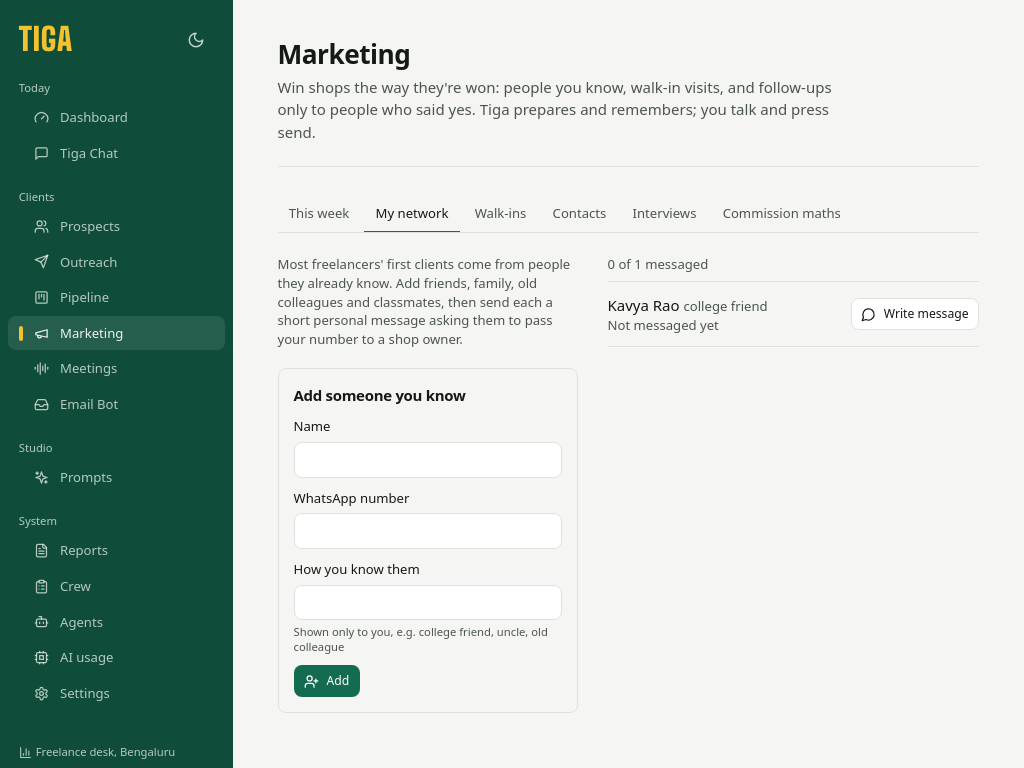
Scenario: Marketing › shows why WhatsApp is refused
Click the button named "write message to kavya rao": (915, 314) [851, 298, 979, 330]
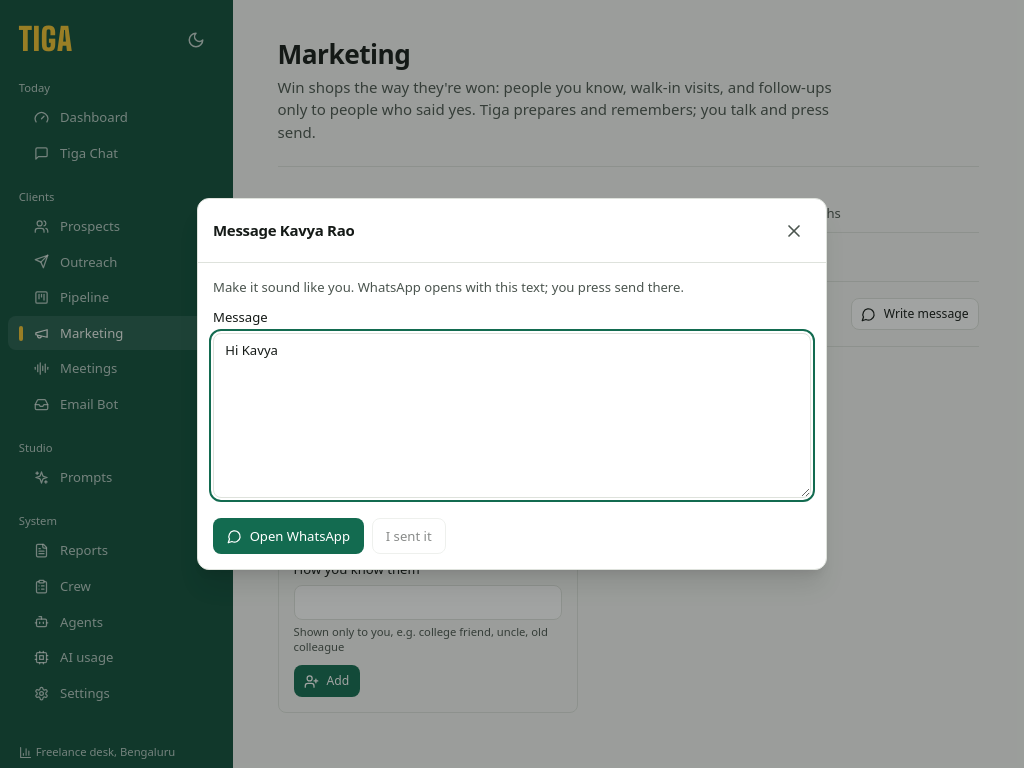
Check: the text box labelled "Message" holds "Hi Kavya", box [213, 333, 811, 498]
Click the button "Open WhatsApp": (289, 536) [213, 518, 364, 554]
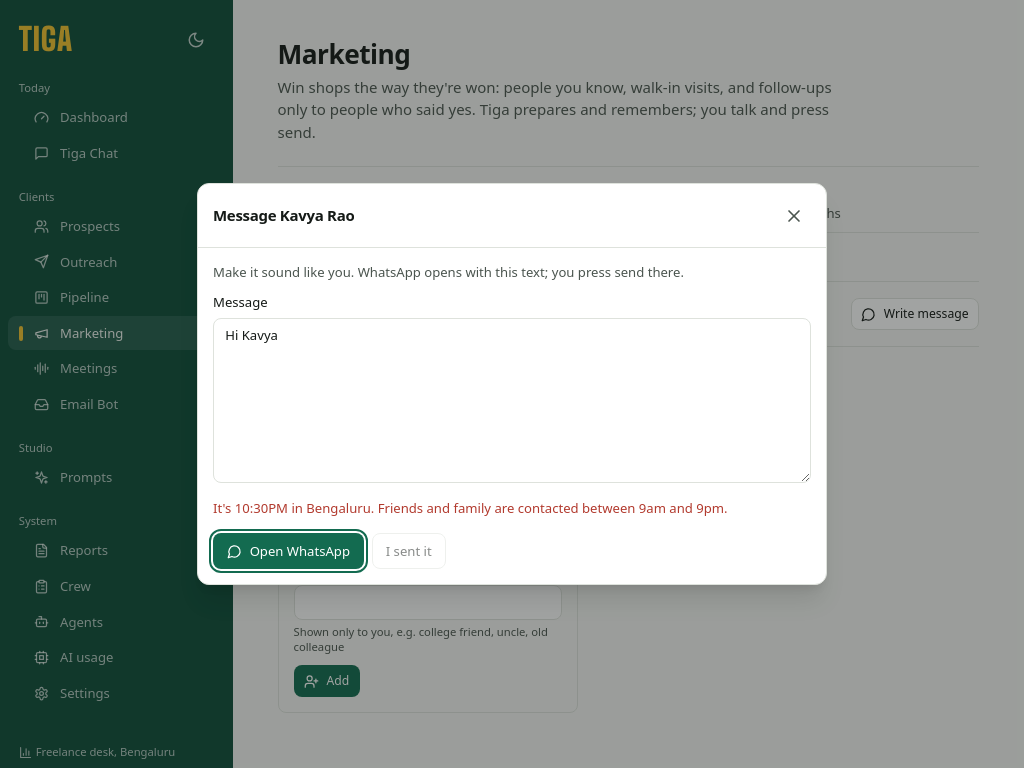
Check: the message shows "between 9am and 9pm", box [213, 499, 728, 517]
